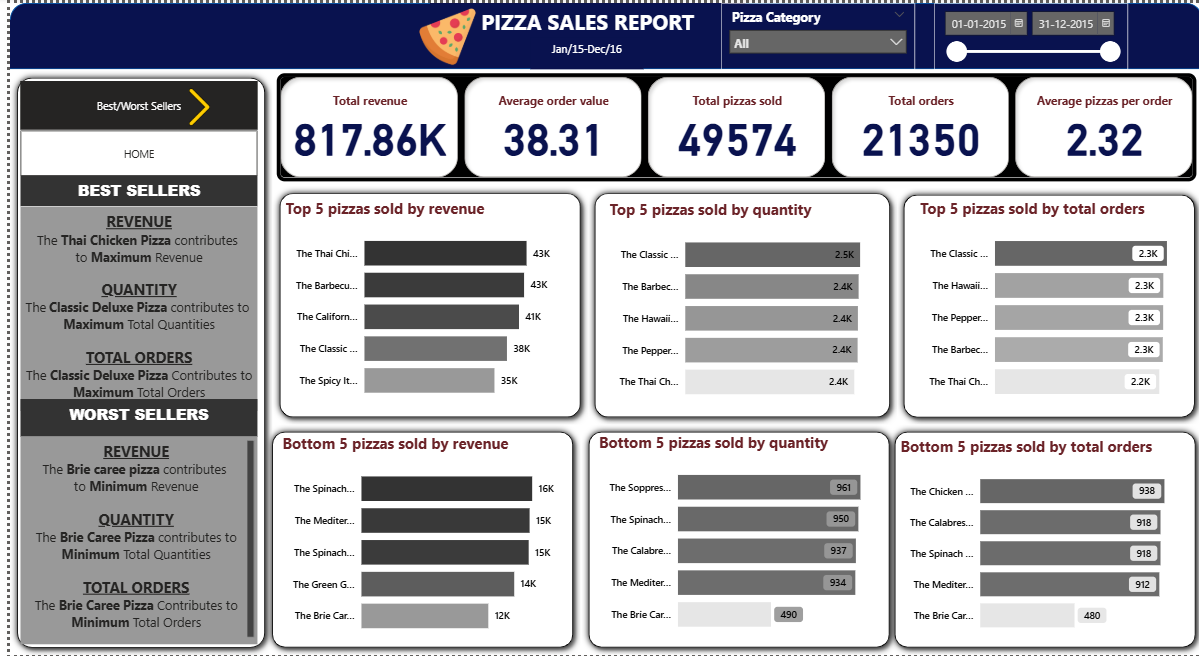

What the dashboard file says about the page in this screenshot:
{"tool":"powerbi","page":{"name":"Best/Worst Sellers","canvas":[1500,820],"ordinal":1},"visuals":[{"type":"cardVisual","fields":{"Data":["pizza_db sales dashboard excel file.total revenue","pizza_db sales dashboard excel file.average order value","pizza_db sales dashboard excel file.total pizzas sold","pizza_db sales dashboard excel file.total orders","pizza_db sales dashboard excel file.average pizzas per order"]},"box":[330,83.3,1170,146.7],"z":0},{"type":"shape","box":[0,0,1500,83.3],"z":1000},{"type":"textbox","box":[528.3,0,396.7,45],"z":2000},{"type":"textbox","box":[655,43.3,141.7,40],"z":3000},{"type":"shape","box":[329.8,229.8,396.5,300],"z":4000},{"type":"shape","box":[0,84.2,329.8,735.1],"z":5000},{"type":"textbox","box":[14,217.5,298.2,38.6],"z":6000},{"type":"textbox","box":[14,256.1,298.2,256.1],"z":7000},{"type":"textbox","box":[14,498.2,298.2,47.4],"z":8000},{"type":"textbox","box":[14,545.6,298.2,261.4],"z":9000},{"type":"slicer","fields":{"Values":["pizza_db sales dashboard excel file.pizza_category"]},"box":[894.7,0,243.9,84.2],"z":10000},{"type":"slicer","fields":{"Values":["pizza_db sales dashboard excel file.order_date"]},"box":[1161.4,0,243.9,84.2],"z":11000},{"type":"shape","box":[726.3,229.8,389.5,300],"z":12000},{"type":"shape","box":[1115.8,231.6,384.2,298.2],"z":13000},{"type":"shape","box":[321.1,529.8,396.5,289.5],"z":14000},{"type":"shape","box":[719.3,529.8,396.5,289.5],"z":15000},{"type":"shape","box":[1103.5,529.8,396.5,289.5],"z":16000},{"type":"barChart","title":"Top 5 pizzas sold by revenue","fields":{"Category":["pizza_db sales dashboard excel file.pizza_name"],"Y":["pizza_db sales dashboard excel file.Total revenue"]},"box":[342.1,245.6,363.2,266.7],"z":17000},{"type":"barChart","title":"Bottom 5 pizzas sold by revenue","fields":{"Category":["pizza_db sales dashboard excel file.pizza_name"],"Y":["pizza_db sales dashboard excel file.Total revenue"]},"box":[336.8,542.1,363.2,266.7],"z":18000},{"type":"barChart","title":"Top 5 pizzas sold  by quantity","fields":{"Category":["pizza_db sales dashboard excel file.pizza_name"],"Y":["pizza_db sales dashboard excel file.Total pizzas sold"]},"box":[749.1,247.4,349.1,266.7],"z":19000},{"type":"barChart","title":"Bottom 5 pizzas sold  by quantity","fields":{"Category":["pizza_db sales dashboard excel file.pizza_name"],"Y":["pizza_db sales dashboard excel file.Total pizzas sold"]},"box":[735.1,540.4,363.2,266.7],"z":20000},{"type":"barChart","title":"Top 5 pizzas sold  by total orders","fields":{"Category":["pizza_db sales dashboard excel file.pizza_name"],"Y":["pizza_db sales dashboard excel file.Total orders"]},"box":[1138.6,245.6,345.6,268.4],"z":21000},{"type":"barChart","title":"Bottom 5 pizzas sold  by total orders","fields":{"Category":["pizza_db sales dashboard excel file.pizza_name"],"Y":["pizza_db sales dashboard excel file.Total orders"]},"box":[1115.8,545.6,368.4,261.4],"z":22000},{"type":"pageNavigator","box":[14,159.6,298.2,57.9],"z":23000},{"type":"pageNavigator","box":[14,98.2,298.2,61.4],"z":24000},{"type":"image","box":[500,0,100,84.2],"z":24001},{"type":"image","box":[200,101.8,77.2,57.9],"z":24002}]}

Visuals, with their boxes in screenshot pixels (x1, y1, x2, y2), scaled from the page's 1500x820 canvas onto the 1199x656 screenshot:
cardVisual - pizza_db sales dashboard excel file.total revenue x pizza_db sales dashboard excel file.average order value: l=264, t=67, r=1198, b=184
shape: l=0, t=0, r=1198, b=67
textbox: l=422, t=0, r=739, b=36
textbox: l=524, t=35, r=637, b=67
shape: l=264, t=184, r=581, b=424
shape: l=0, t=67, r=264, b=655
textbox: l=11, t=174, r=250, b=205
textbox: l=11, t=205, r=250, b=410
textbox: l=11, t=399, r=250, b=436
textbox: l=11, t=436, r=250, b=646
slicer - pizza_db sales dashboard excel file.pizza_category: l=715, t=0, r=910, b=67
slicer - pizza_db sales dashboard excel file.order_date: l=928, t=0, r=1123, b=67
shape: l=581, t=184, r=892, b=424
shape: l=892, t=185, r=1198, b=424
shape: l=257, t=424, r=574, b=655
shape: l=575, t=424, r=892, b=655
shape: l=882, t=424, r=1198, b=655
"Top 5 pizzas sold by revenue" barChart: l=273, t=196, r=564, b=410
"Bottom 5 pizzas sold by revenue" barChart: l=269, t=434, r=560, b=647
"Top 5 pizzas sold  by quantity" barChart: l=599, t=198, r=878, b=411
"Bottom 5 pizzas sold  by quantity" barChart: l=588, t=432, r=878, b=646
"Top 5 pizzas sold  by total orders" barChart: l=910, t=196, r=1186, b=411
"Bottom 5 pizzas sold  by total orders" barChart: l=892, t=436, r=1186, b=646
pageNavigator: l=11, t=128, r=250, b=174
pageNavigator: l=11, t=79, r=250, b=128
image: l=400, t=0, r=480, b=67
image: l=160, t=81, r=222, b=128
